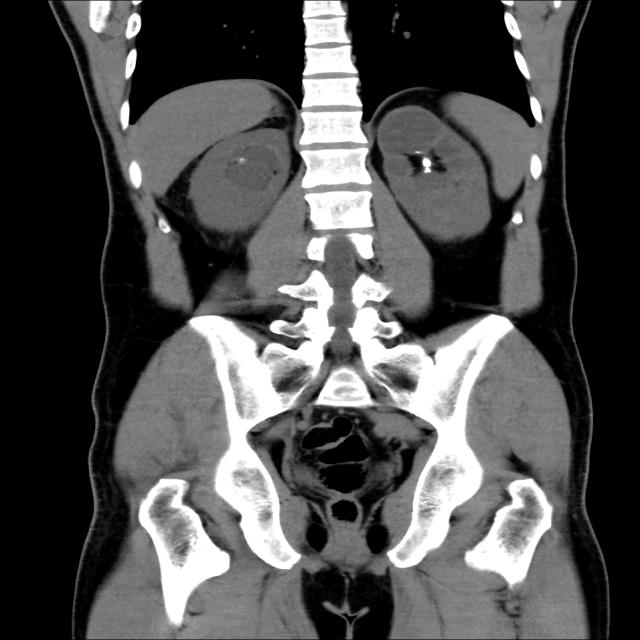kidneystone: (414, 151, 433, 174)
